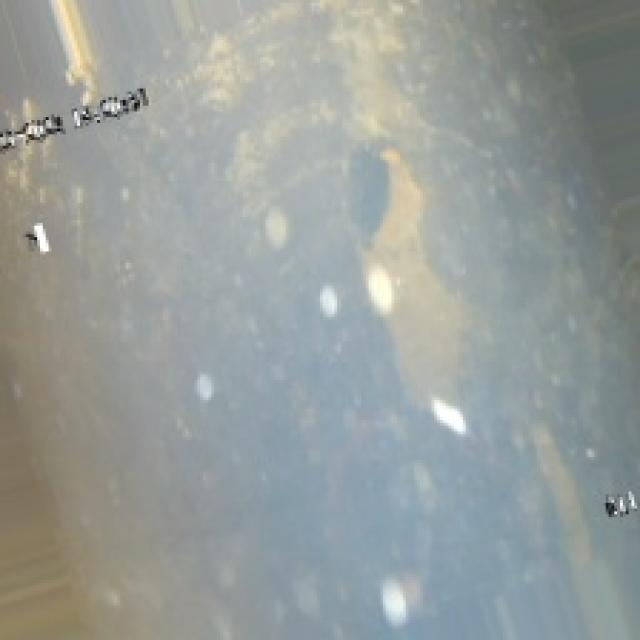pipe_surface_damage: (331, 140, 440, 354)
